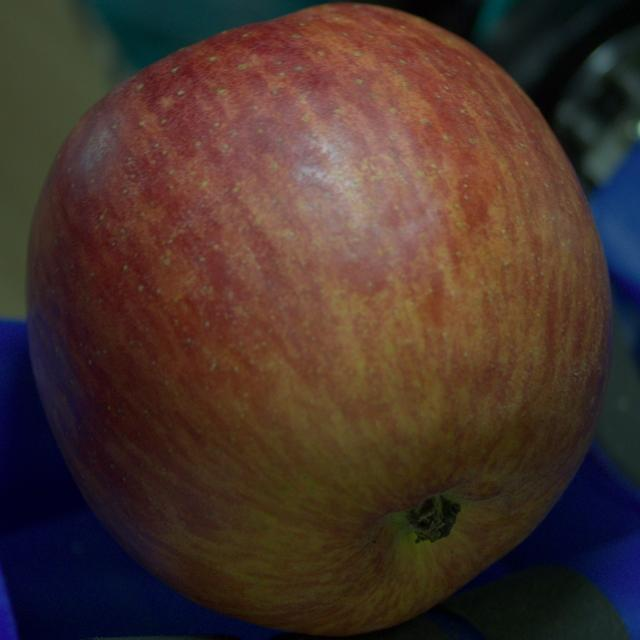apple: (27, 4, 612, 635)
